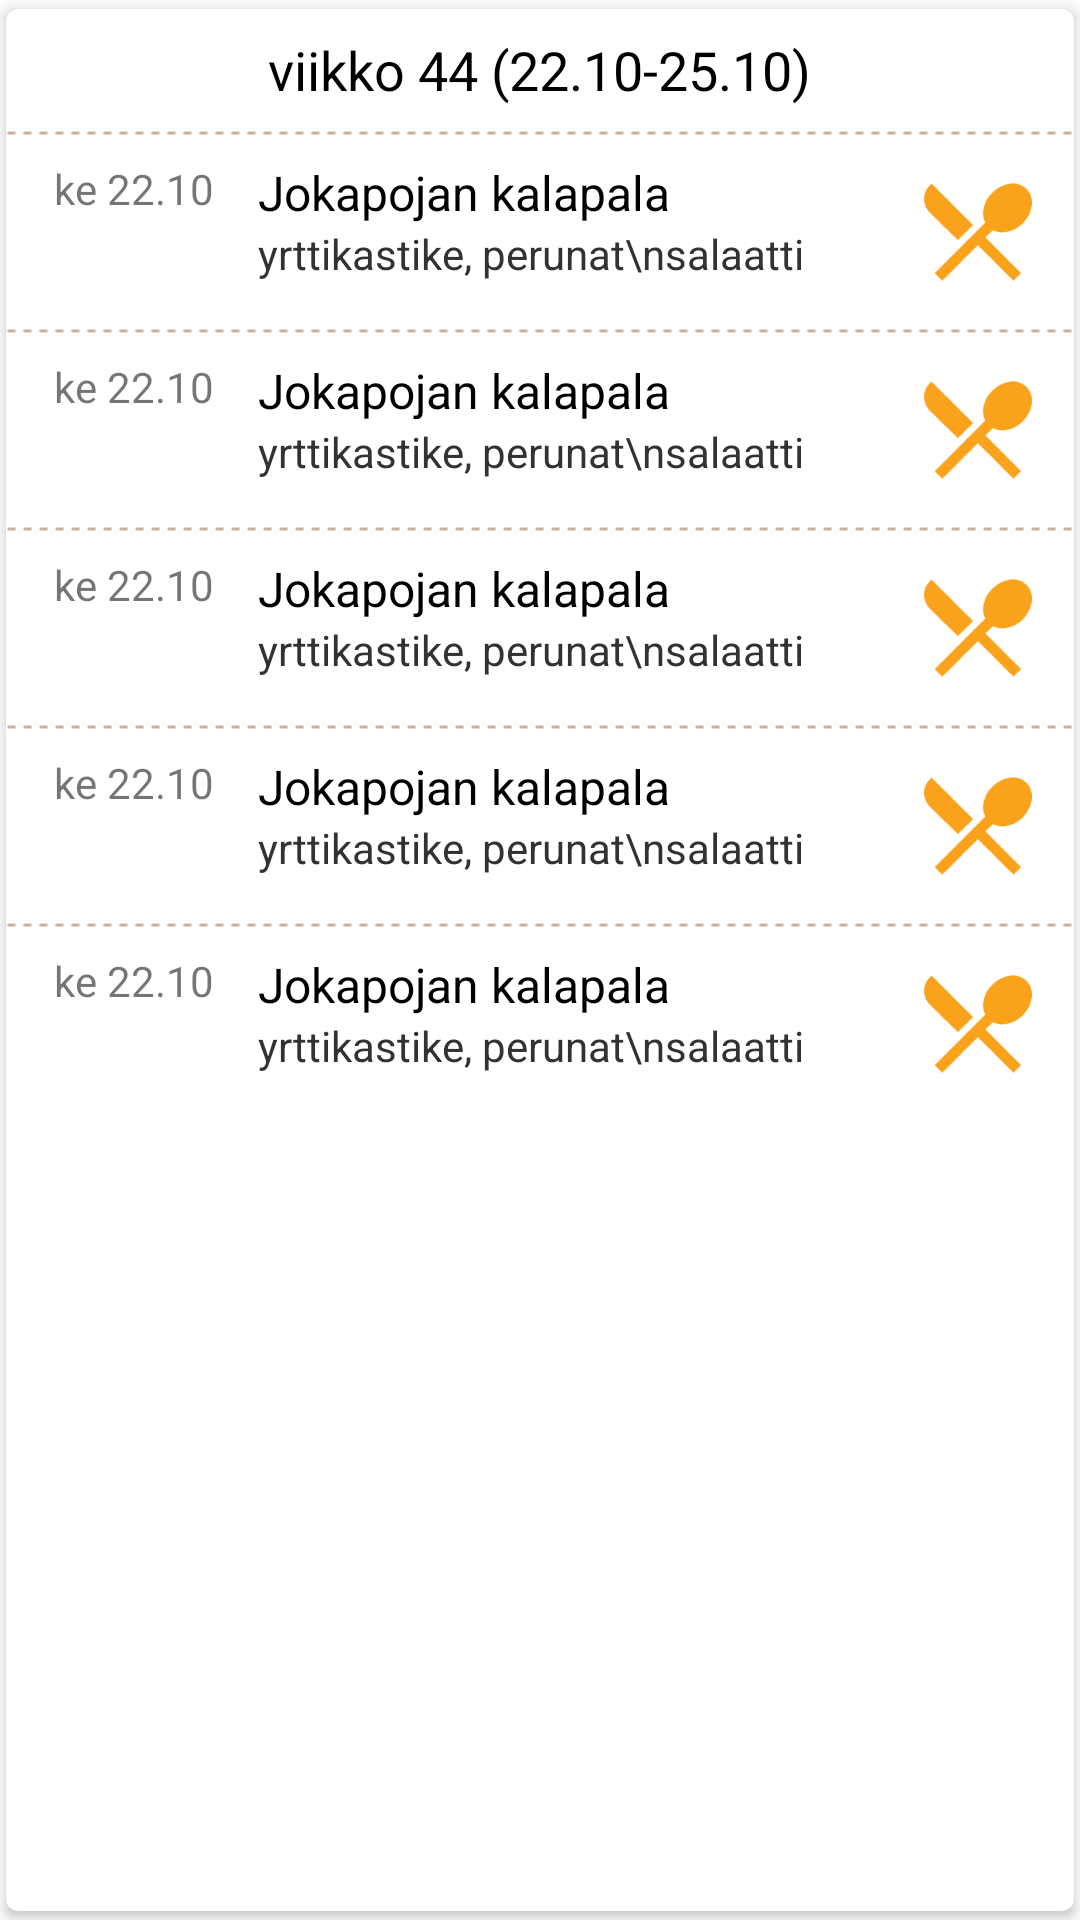

Locate icon controls on the screen. Image size 1080px x 1920px, boxes as region(x1, y1, x2, y2).
cutlery: region(924, 183, 1032, 281), region(924, 381, 1032, 479), region(924, 579, 1032, 677), region(924, 777, 1032, 875), region(924, 975, 1032, 1073)
